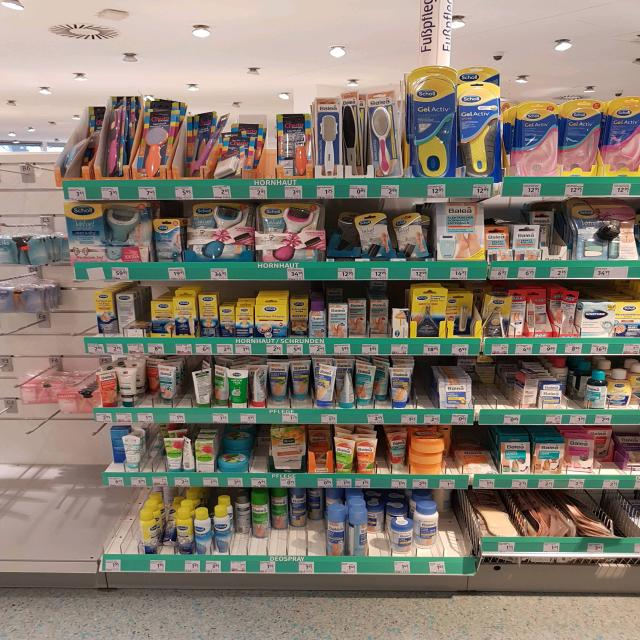unorganised: (444, 292, 480, 332), (266, 356, 292, 403), (460, 358, 501, 387), (314, 361, 340, 406), (412, 505, 438, 545), (336, 214, 359, 258), (289, 355, 313, 397), (555, 290, 577, 332), (189, 369, 211, 410), (249, 496, 270, 538), (269, 488, 290, 530), (593, 427, 618, 462), (155, 365, 177, 403), (212, 360, 230, 406), (231, 492, 251, 532), (308, 428, 331, 462), (369, 297, 390, 334), (110, 425, 129, 465), (371, 361, 391, 399), (166, 493, 181, 543), (347, 299, 367, 335), (290, 297, 309, 334), (305, 484, 324, 521), (551, 356, 570, 393), (250, 369, 268, 408), (338, 366, 355, 407), (291, 486, 307, 528), (218, 307, 239, 335), (146, 356, 161, 394), (369, 501, 385, 532), (181, 436, 194, 473), (441, 421, 454, 457)
